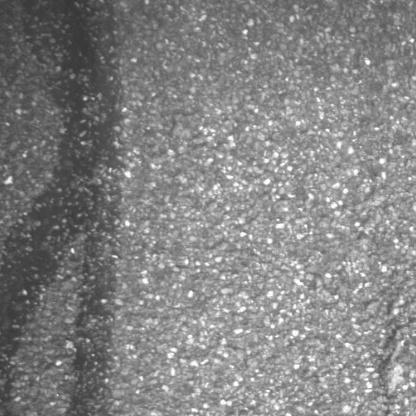Cracks: (375, 292, 416, 416)
